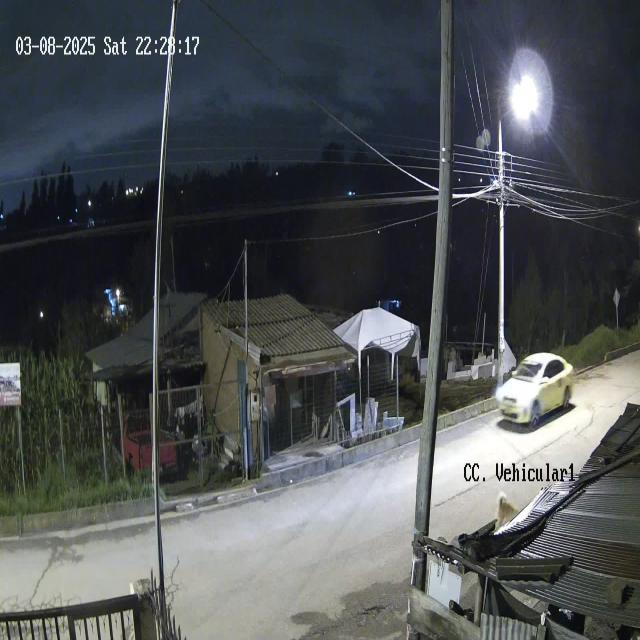SED: (495, 352, 574, 428)
